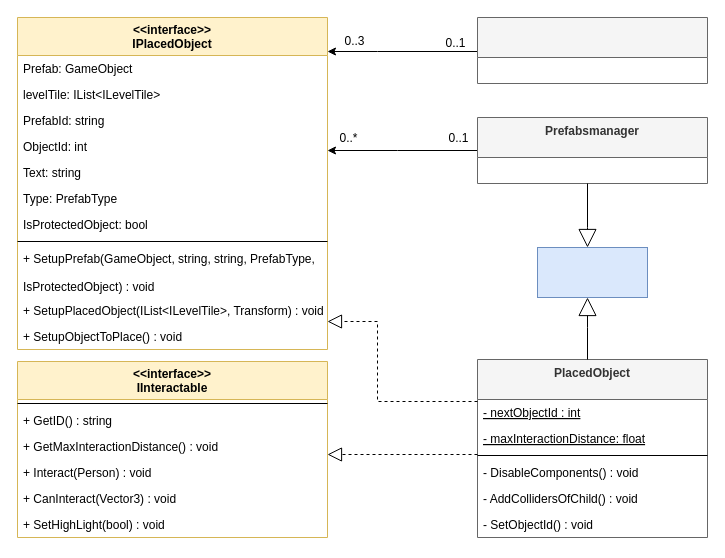
This 725x558 diagram has some shape labels left out. Each missing label, with the centre of its shape:
MonoBehaviour: the point at 592,272
StateInformation: the point at 592,50
